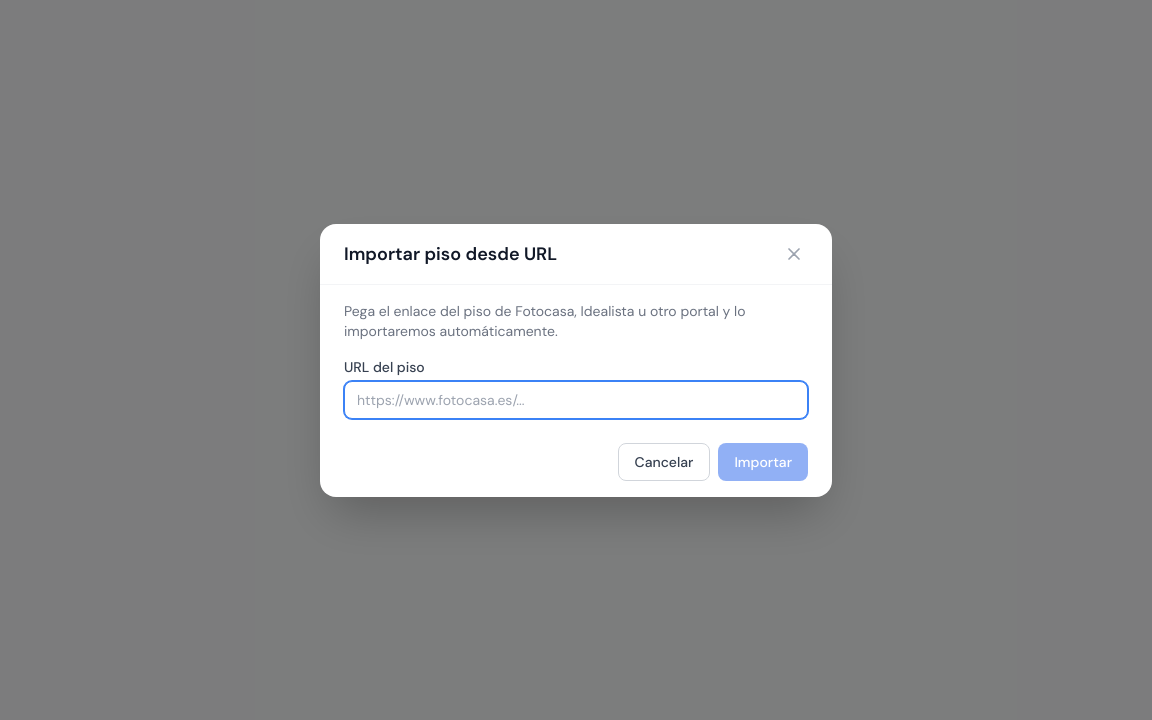
Test: ImportFromUrlModal › shows progress steps while importing
In the field with placeholder "https://www.fotocasa.es/...": (576, 400) [344,380,808,418], type "https://fotocasa.es/piso/1"
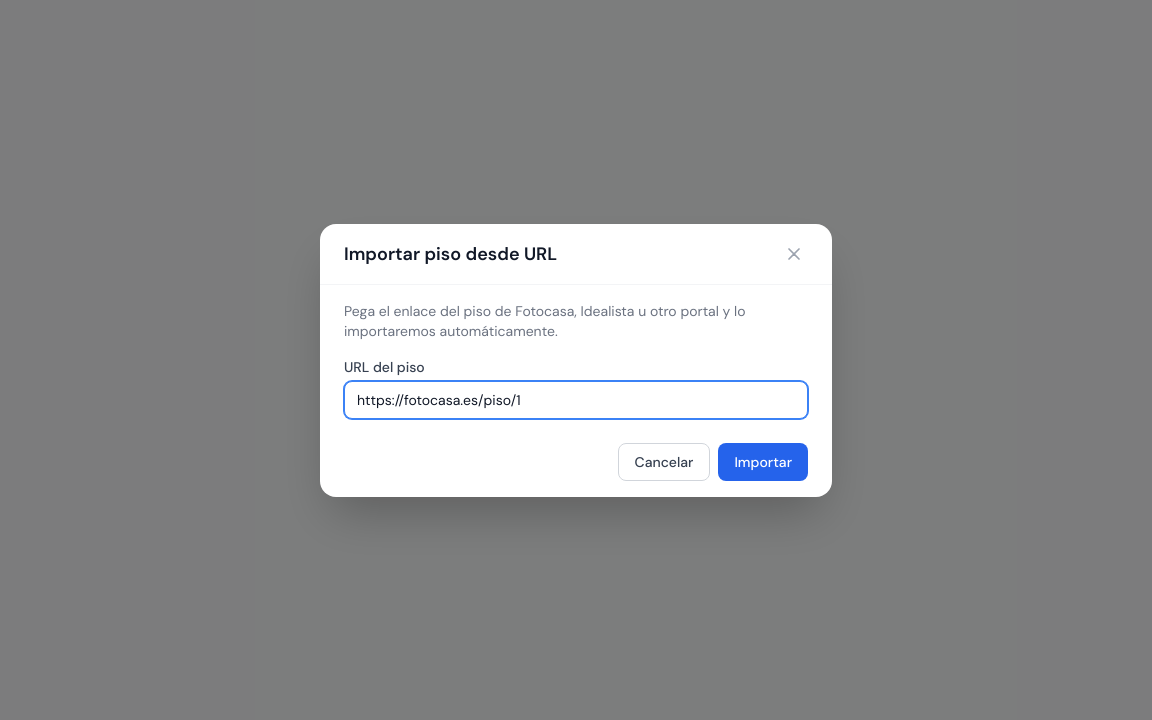
Click the button "Importar": (763, 462) [718,442,808,480]
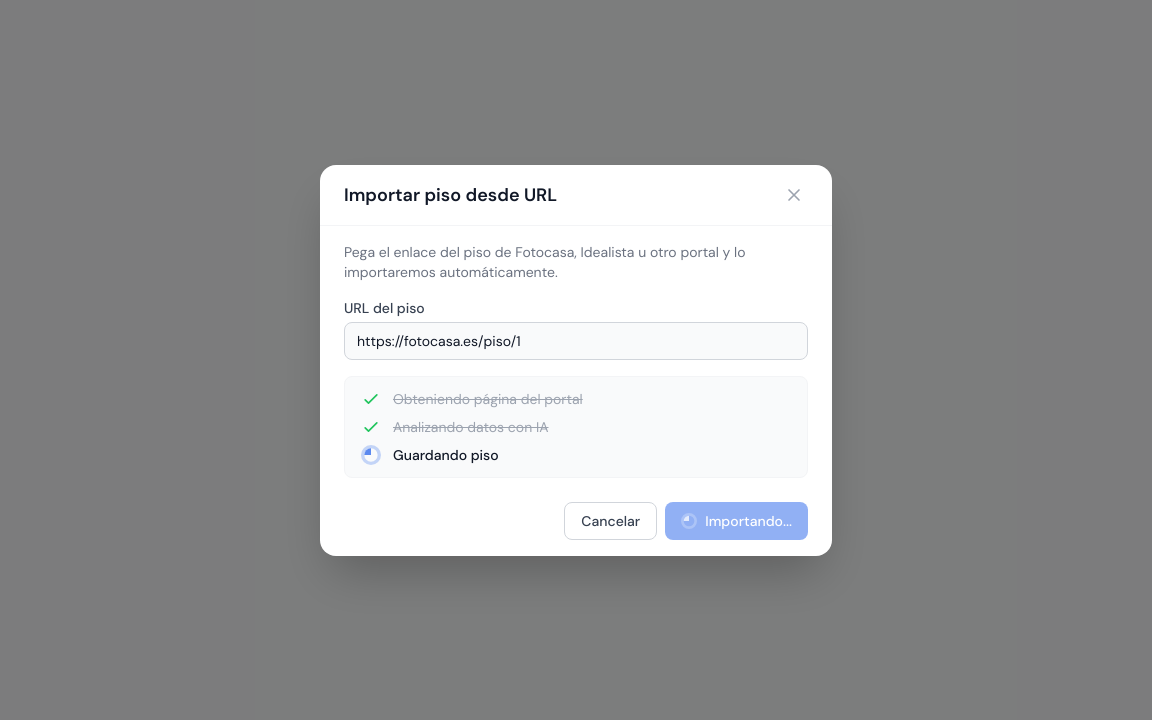
expect the text "Obteniendo página del portal" is shown: met, box [393,388,583,408]
expect the text "Analizando datos con IA" is shown: met, box [393,416,548,436]
expect the text "Guardando piso" is shown: met, box [393,444,499,464]
